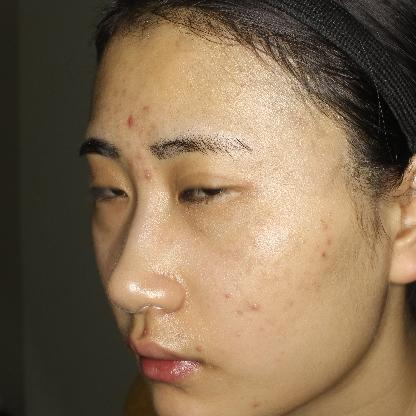Blackheads: (314, 248, 334, 264)
Papules: (121, 108, 141, 135), (188, 339, 210, 357)
pustules: (244, 295, 269, 314)
